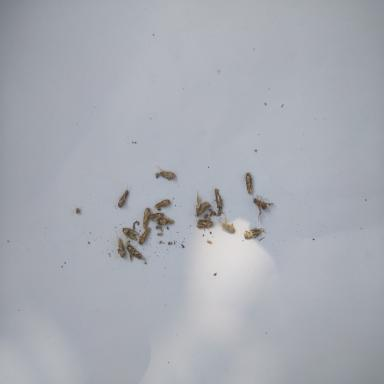pbw: (216, 210, 236, 234), (156, 164, 177, 184), (195, 190, 211, 216), (127, 243, 146, 261), (115, 229, 126, 259), (117, 183, 129, 208), (244, 171, 256, 196), (243, 226, 264, 240), (138, 225, 151, 246), (122, 226, 140, 239), (214, 186, 223, 210), (195, 217, 213, 229), (142, 205, 151, 228), (154, 198, 171, 209), (149, 213, 164, 220), (157, 218, 174, 224)
